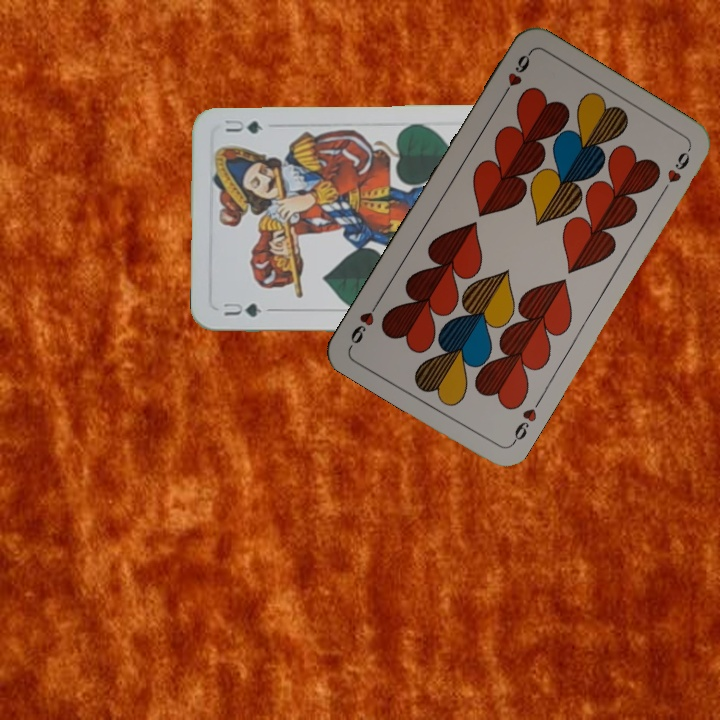GU: (219, 299, 264, 320)
H9: (497, 48, 534, 102), (507, 404, 540, 448)
